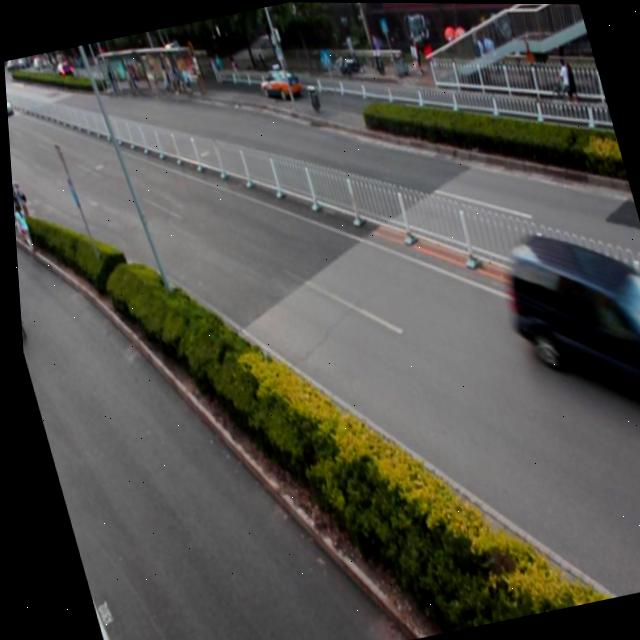car: (488, 209, 640, 438), (255, 61, 302, 106)
